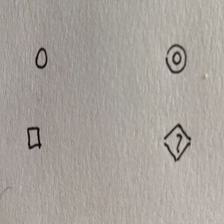association: (34, 46, 49, 69)
dissociation: (165, 44, 187, 74)
process: (26, 125, 42, 150)
replacement-glyph: (163, 122, 192, 162)
